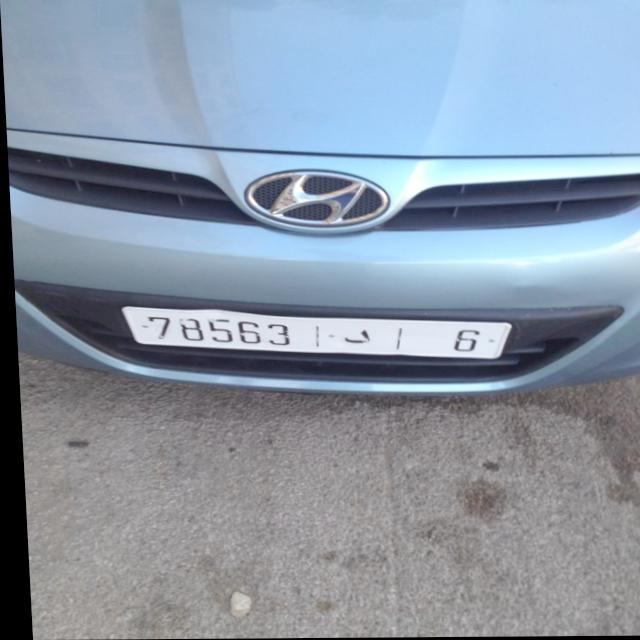License-Plate: (119, 307, 508, 359)
